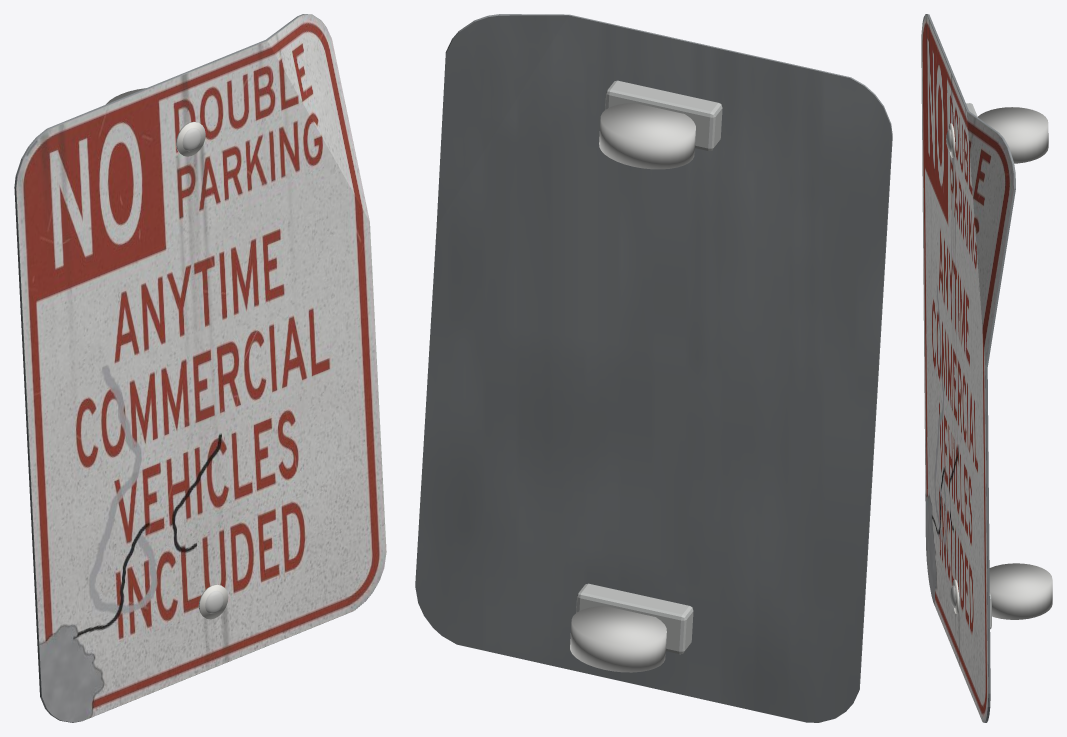
File: noDoubleParking-v1-battered.glb
The picture shows the model from 3 angles, left to right: view 1: azimuth 30°, elevation 25°; view 2: azimuth 150°, elevation 25°; view 3: azimuth 270°, elevation 25°; orthographic projection. The views are drawn at different scales.
Parts seen in each view (by area): view 1: noDoubleParking-v1-battered; view 2: noDoubleParking-v1-battered; view 3: noDoubleParking-v1-battered.
Boxes of the visible parts, x1,y1,x2,y2 form: noDoubleParking-v1-battered: (14, 14, 386, 722); noDoubleParking-v1-battered: (415, 14, 892, 722); noDoubleParking-v1-battered: (921, 14, 1052, 722).
Size of the model in its own units: 0.3748 by 0.5453 by 0.111.
1 material, 1 textured.
